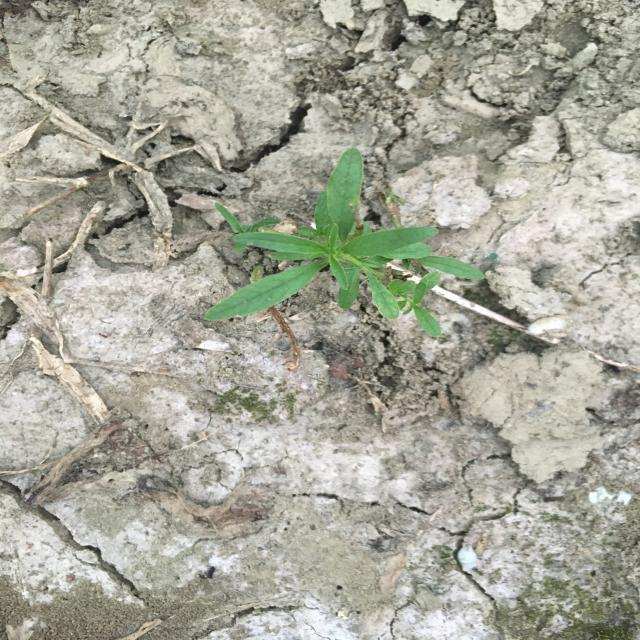Waterhemp: (196, 144, 489, 341)
